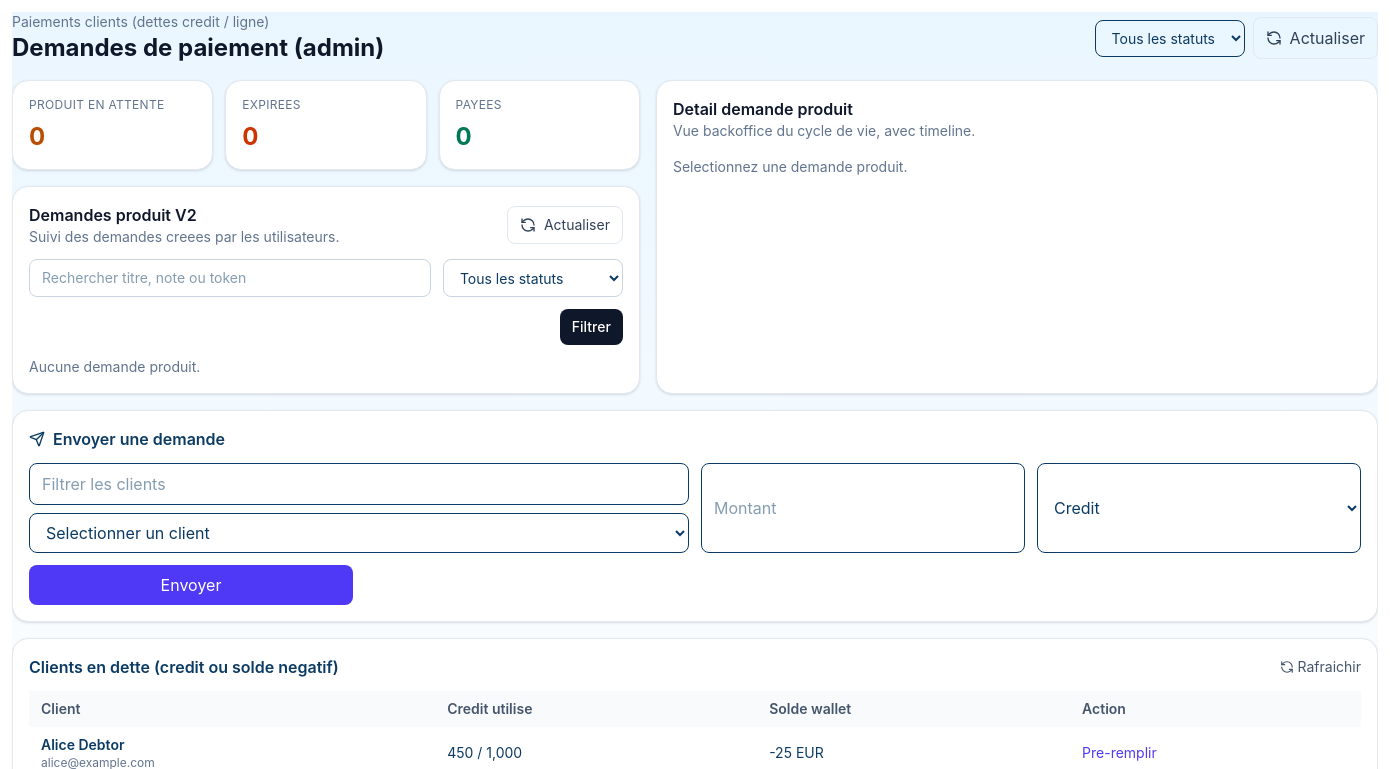
Test case: AdminPaymentRequestsPage › creates a legacy admin payment request from the debtor picker
Expected: the heading "Clients en dette (credit ou solde negatif)" is shown, [29,655,339,679]
Click the button "Pre-remplir" at (1119, 753), box [1082,743,1157,763]
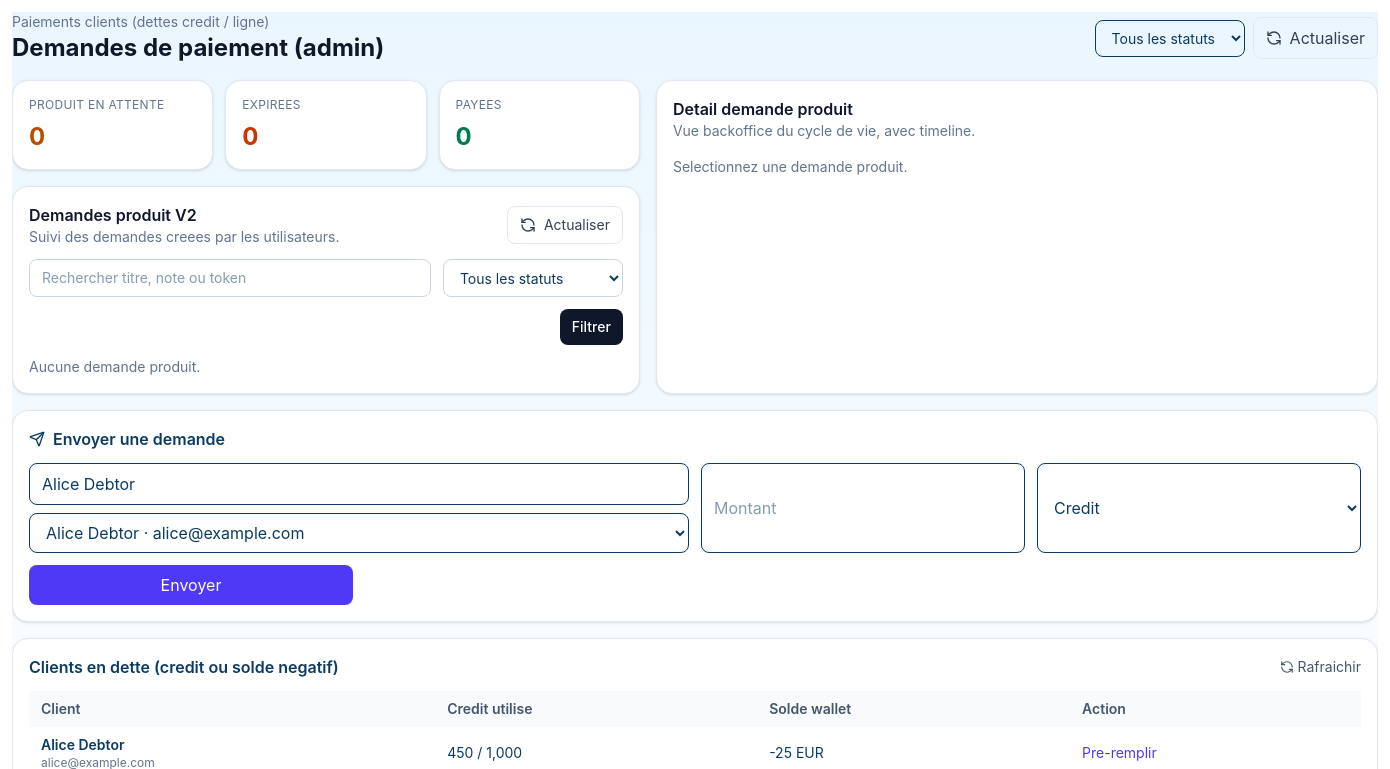
Type "200" into the number field with placeholder "Montant" at (863, 508), box [701,463,1025,553]
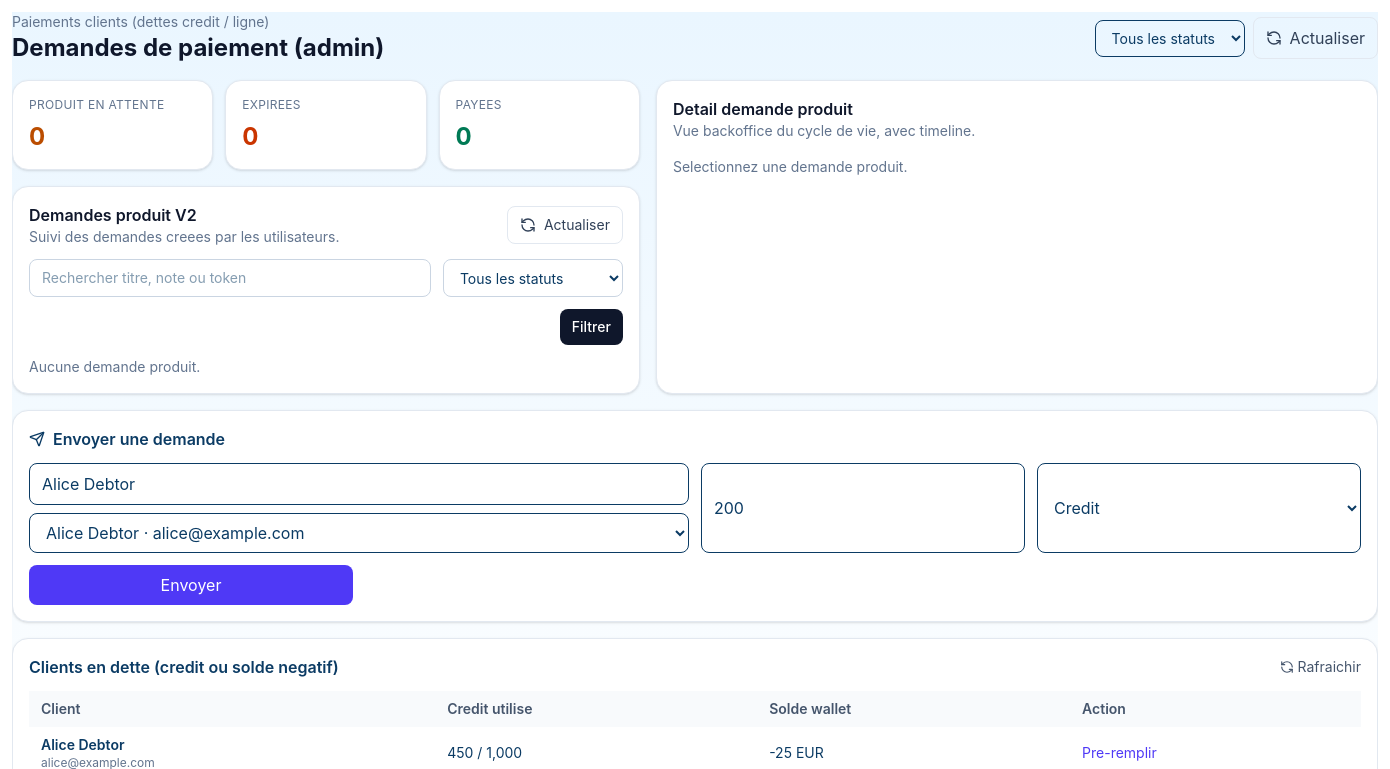
Click the button "Envoyer" at (191, 585), box [29,565,353,605]
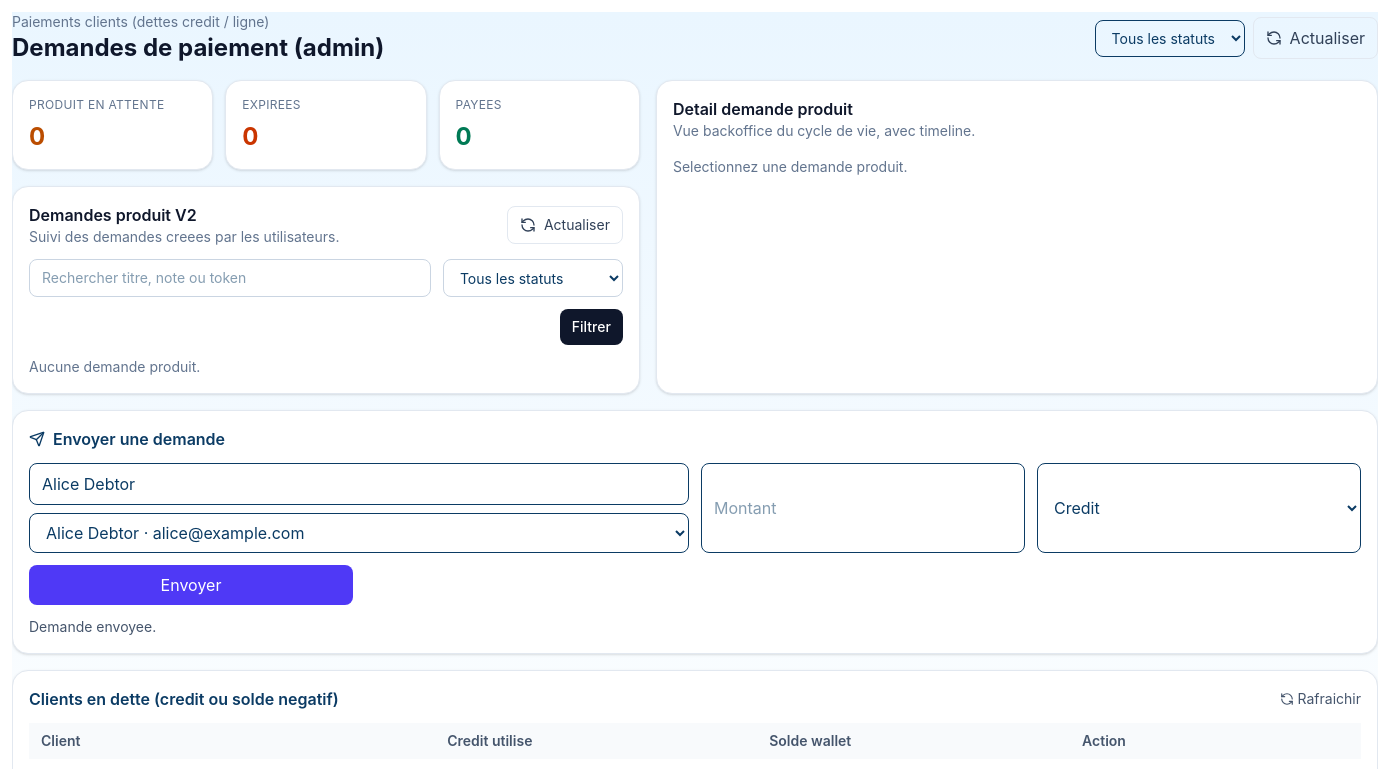
Expected: the text "Demande envoyee." is shown, [29,618,156,635]
